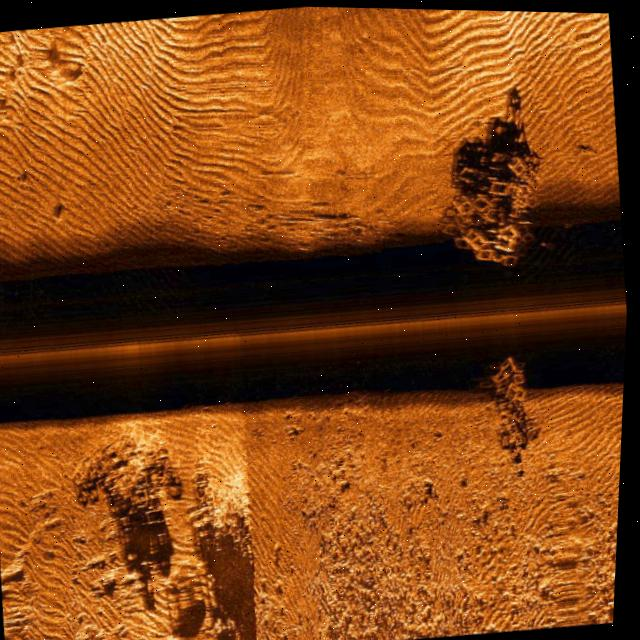artificial reef: (426, 140, 556, 275), (492, 350, 544, 447)
